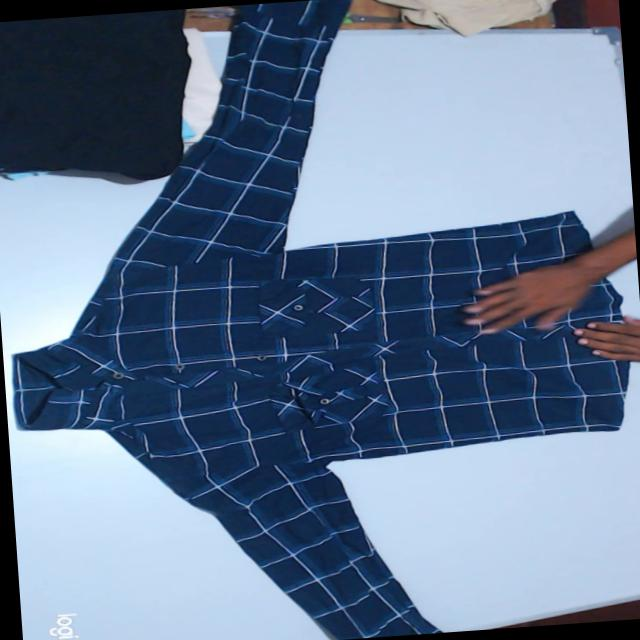new-garment: (12, 0, 628, 639)
